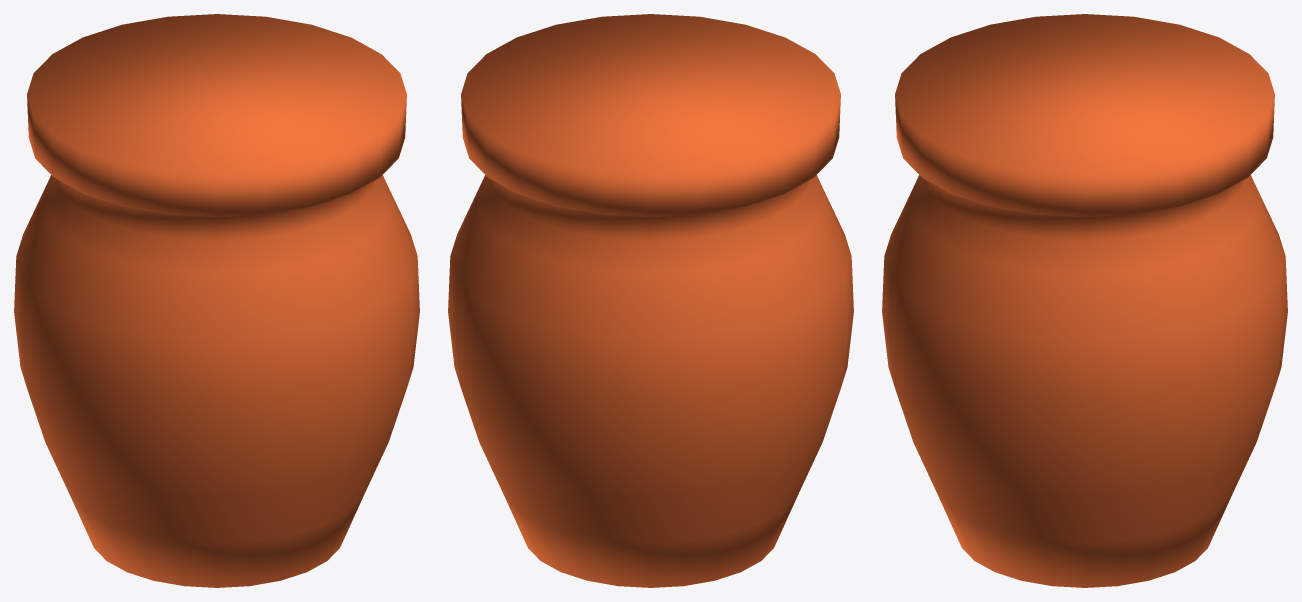
File: MieleCastagno250g.fbx
3 views of the same model, side by side, from view 1: azimuth 30°, elevation 25°; view 2: azimuth 150°, elevation 25°; view 3: azimuth 270°, elevation 25° (orthographic).
Parts seen in each view (by area): view 1: VasettoCastagno500g.001; view 2: VasettoCastagno500g.001; view 3: VasettoCastagno500g.001.
Part boxes in pixels (x1,y1,x2,y2): VasettoCastagno500g.001: (14, 14, 419, 587); VasettoCastagno500g.001: (448, 14, 853, 587); VasettoCastagno500g.001: (882, 14, 1287, 587).
Size of the model in its own units: 255 by 305 by 255.
